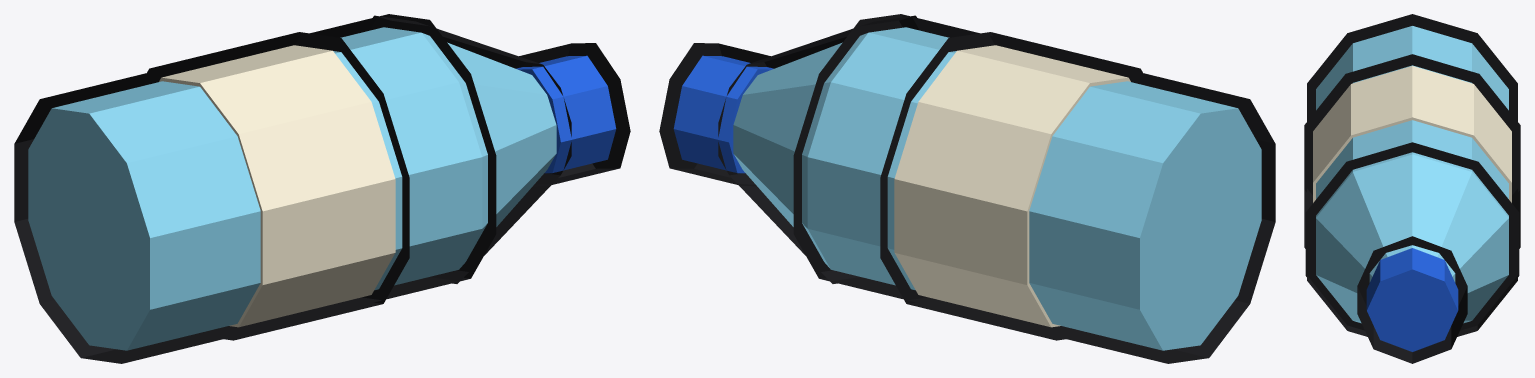
Rendered from Basura_Botella.fbx.
The picture shows the model from 3 angles, left to right: view 1: azimuth 30°, elevation 25°; view 2: azimuth 150°, elevation 25°; view 3: azimuth 270°, elevation 25°; orthographic projection. The views are drawn at different scales.
Visible parts, largest first — view 1: Basura_Botella; view 2: Basura_Botella; view 3: Basura_Botella.
Part boxes in pixels (box(x1,y1,x2,y2)): Basura_Botella: box(14, 14, 630, 363); Basura_Botella: box(659, 14, 1275, 363); Basura_Botella: box(1304, 14, 1520, 363).
Size of the model in its own units: 0.4653 by 0.2244 by 0.2134.
Materials: 2 (1 with a texture image).
